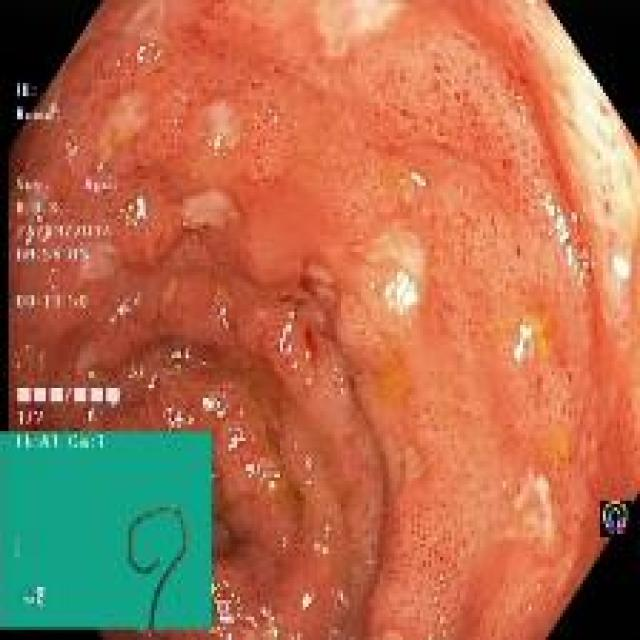ulcerative-colitis-grade-3: (10, 3, 640, 638)
